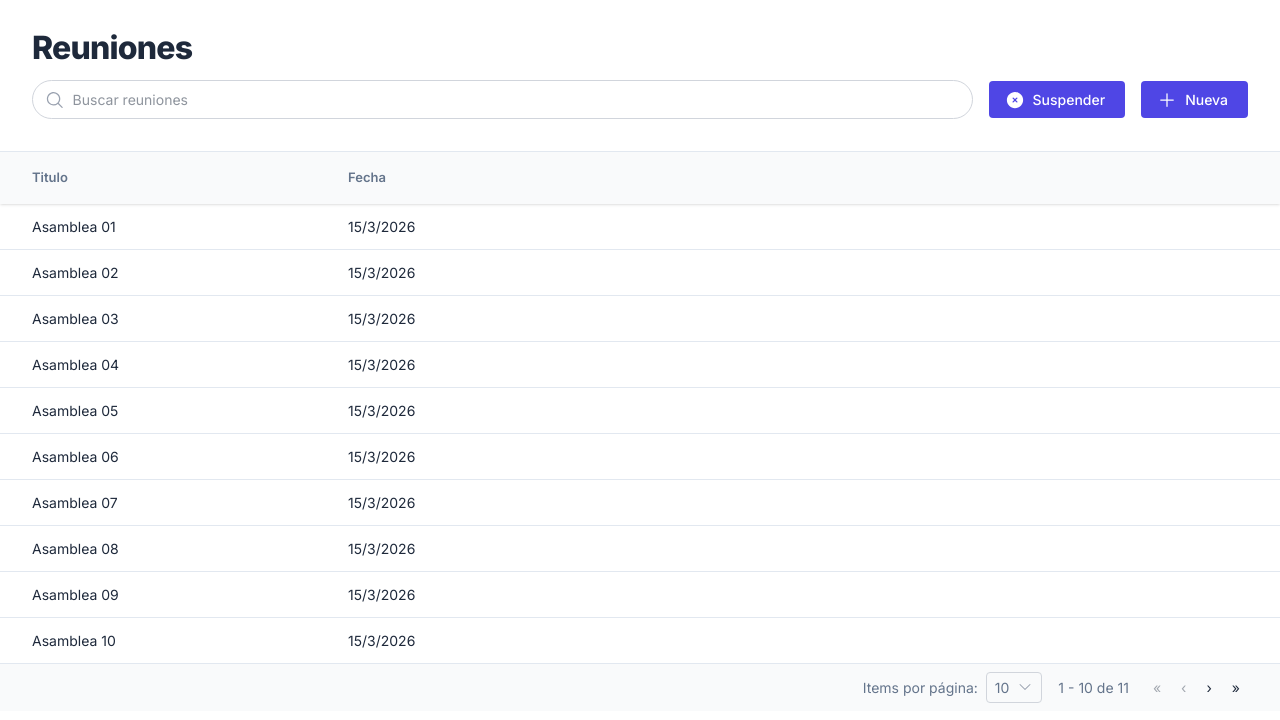
Test: MeetingsList › pagina de 10 en 10
Expected: the text "1 - 10 de 11" is shown, [1058, 676, 1129, 698]
Step 1. Click the button "»" → (1236,687), box [1224, 672, 1248, 702]
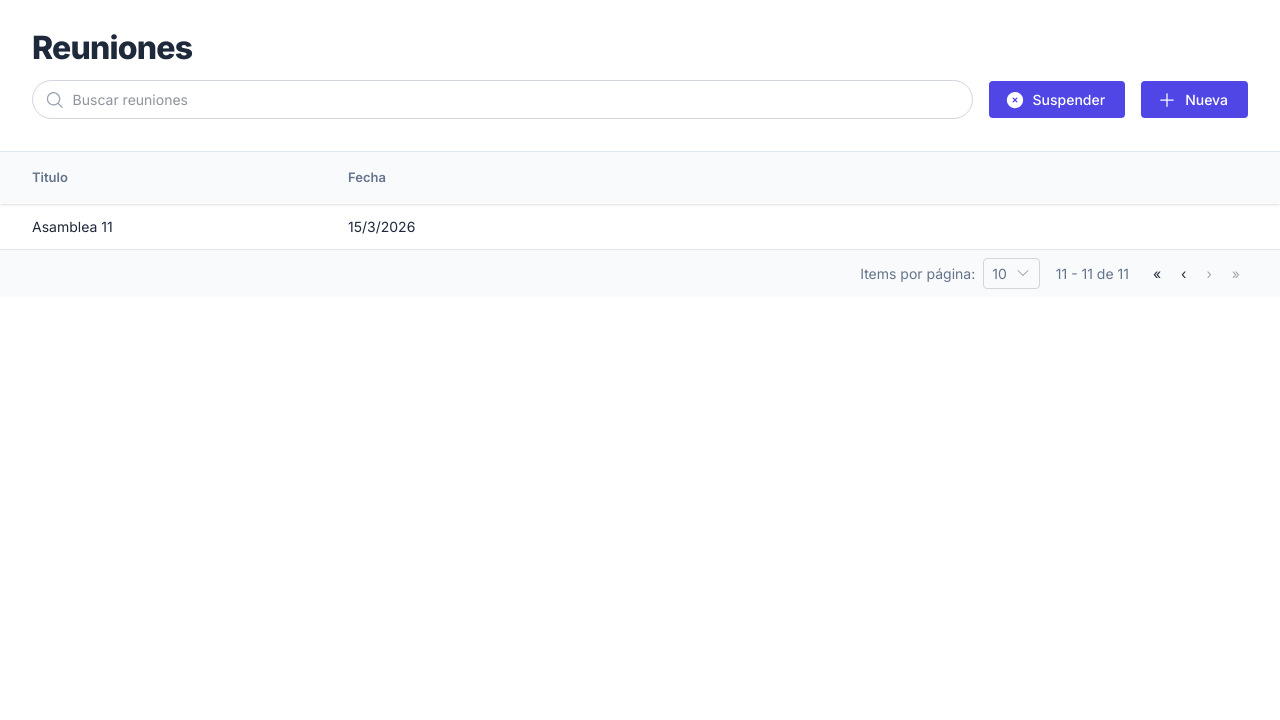
Now the text "11 - 11 de 11" is shown, box [1056, 262, 1129, 284]
